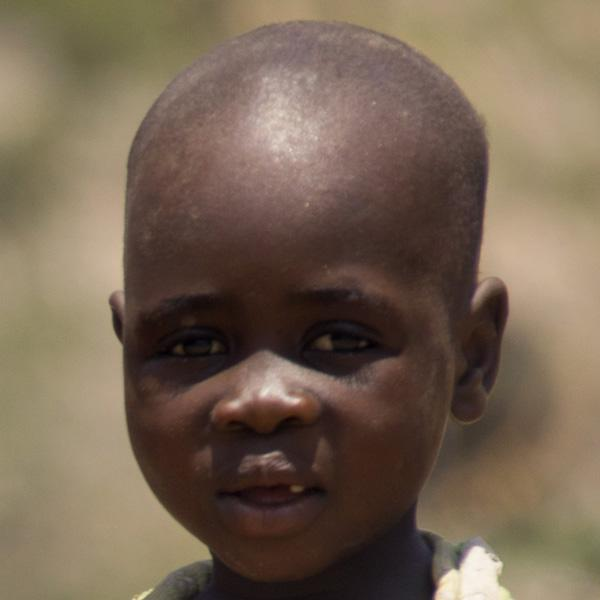Eyes: (281, 312, 395, 373), (148, 313, 242, 377)
